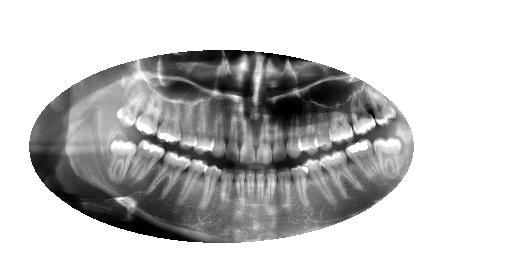i10healthy: (235, 169, 245, 207)
i11healthy: (221, 166, 235, 208)
i12healthy: (201, 164, 222, 210)
i13healthy: (178, 159, 208, 205)
i14healthy: (149, 151, 189, 197)
i15healthy: (131, 140, 165, 182)
i16healthy: (108, 137, 137, 181)
i1healthy: (373, 134, 402, 177)
i2healthy: (346, 138, 379, 185)
i3healthy: (319, 149, 359, 201)
i4healthy: (306, 158, 337, 208)
i5healthy: (292, 162, 309, 209)
i6healthy: (278, 167, 292, 206)
i7healthy: (267, 169, 278, 204)
i8healthy: (256, 168, 266, 205)
i9healthy: (245, 169, 255, 204)
u10decay: (226, 110, 239, 163)
u11healthy: (214, 103, 227, 159)
u12healthy: (197, 102, 215, 155)
u13healthy: (180, 101, 198, 148)
u14healthy: (157, 101, 183, 143)
u15healthy: (134, 94, 164, 135)
u16healthy: (114, 84, 148, 127)
u1healthy: (364, 84, 398, 129)
u2healthy: (351, 95, 376, 136)
u3healthy: (329, 104, 354, 147)
u4healthy: (313, 110, 332, 153)
u5healthy: (298, 111, 318, 157)
u6healthy: (287, 112, 302, 161)
u7decay: (273, 114, 288, 164)
u8healthy: (255, 115, 274, 166)
u9healthy: (239, 117, 255, 166)
